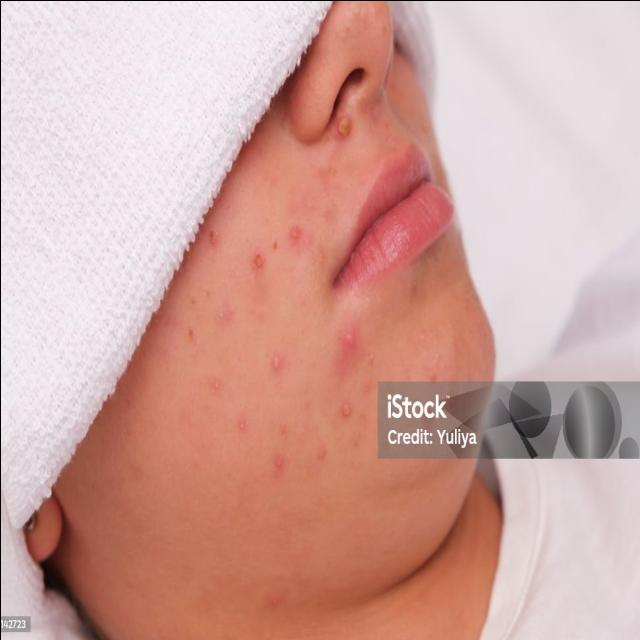pustule: (331, 106, 361, 144), (337, 325, 364, 364), (286, 214, 312, 251), (249, 238, 271, 277), (270, 448, 296, 477), (265, 349, 288, 375), (336, 394, 358, 421), (206, 218, 224, 251), (232, 409, 251, 440), (211, 372, 225, 397)
